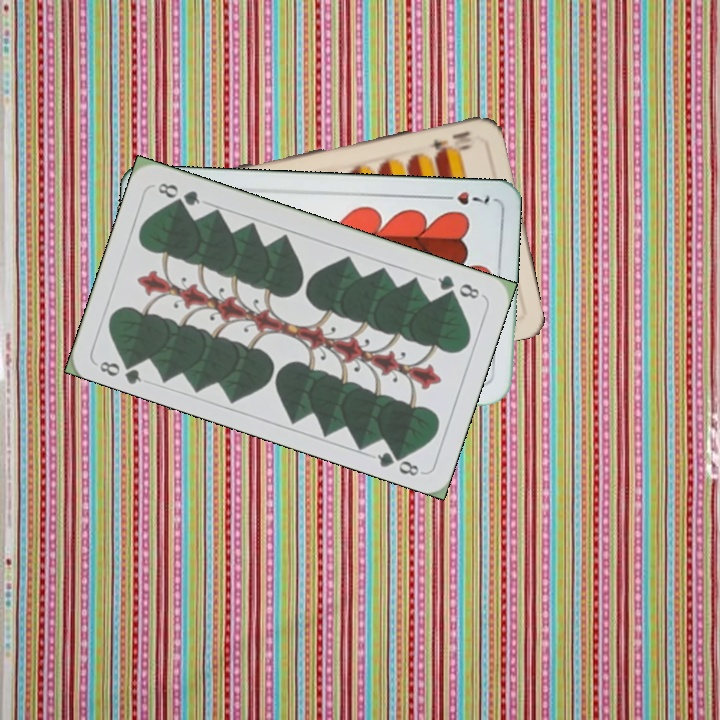E10: (422, 127, 473, 159)
G8: (95, 353, 144, 387), (433, 271, 482, 302)
H7: (435, 187, 492, 207)
